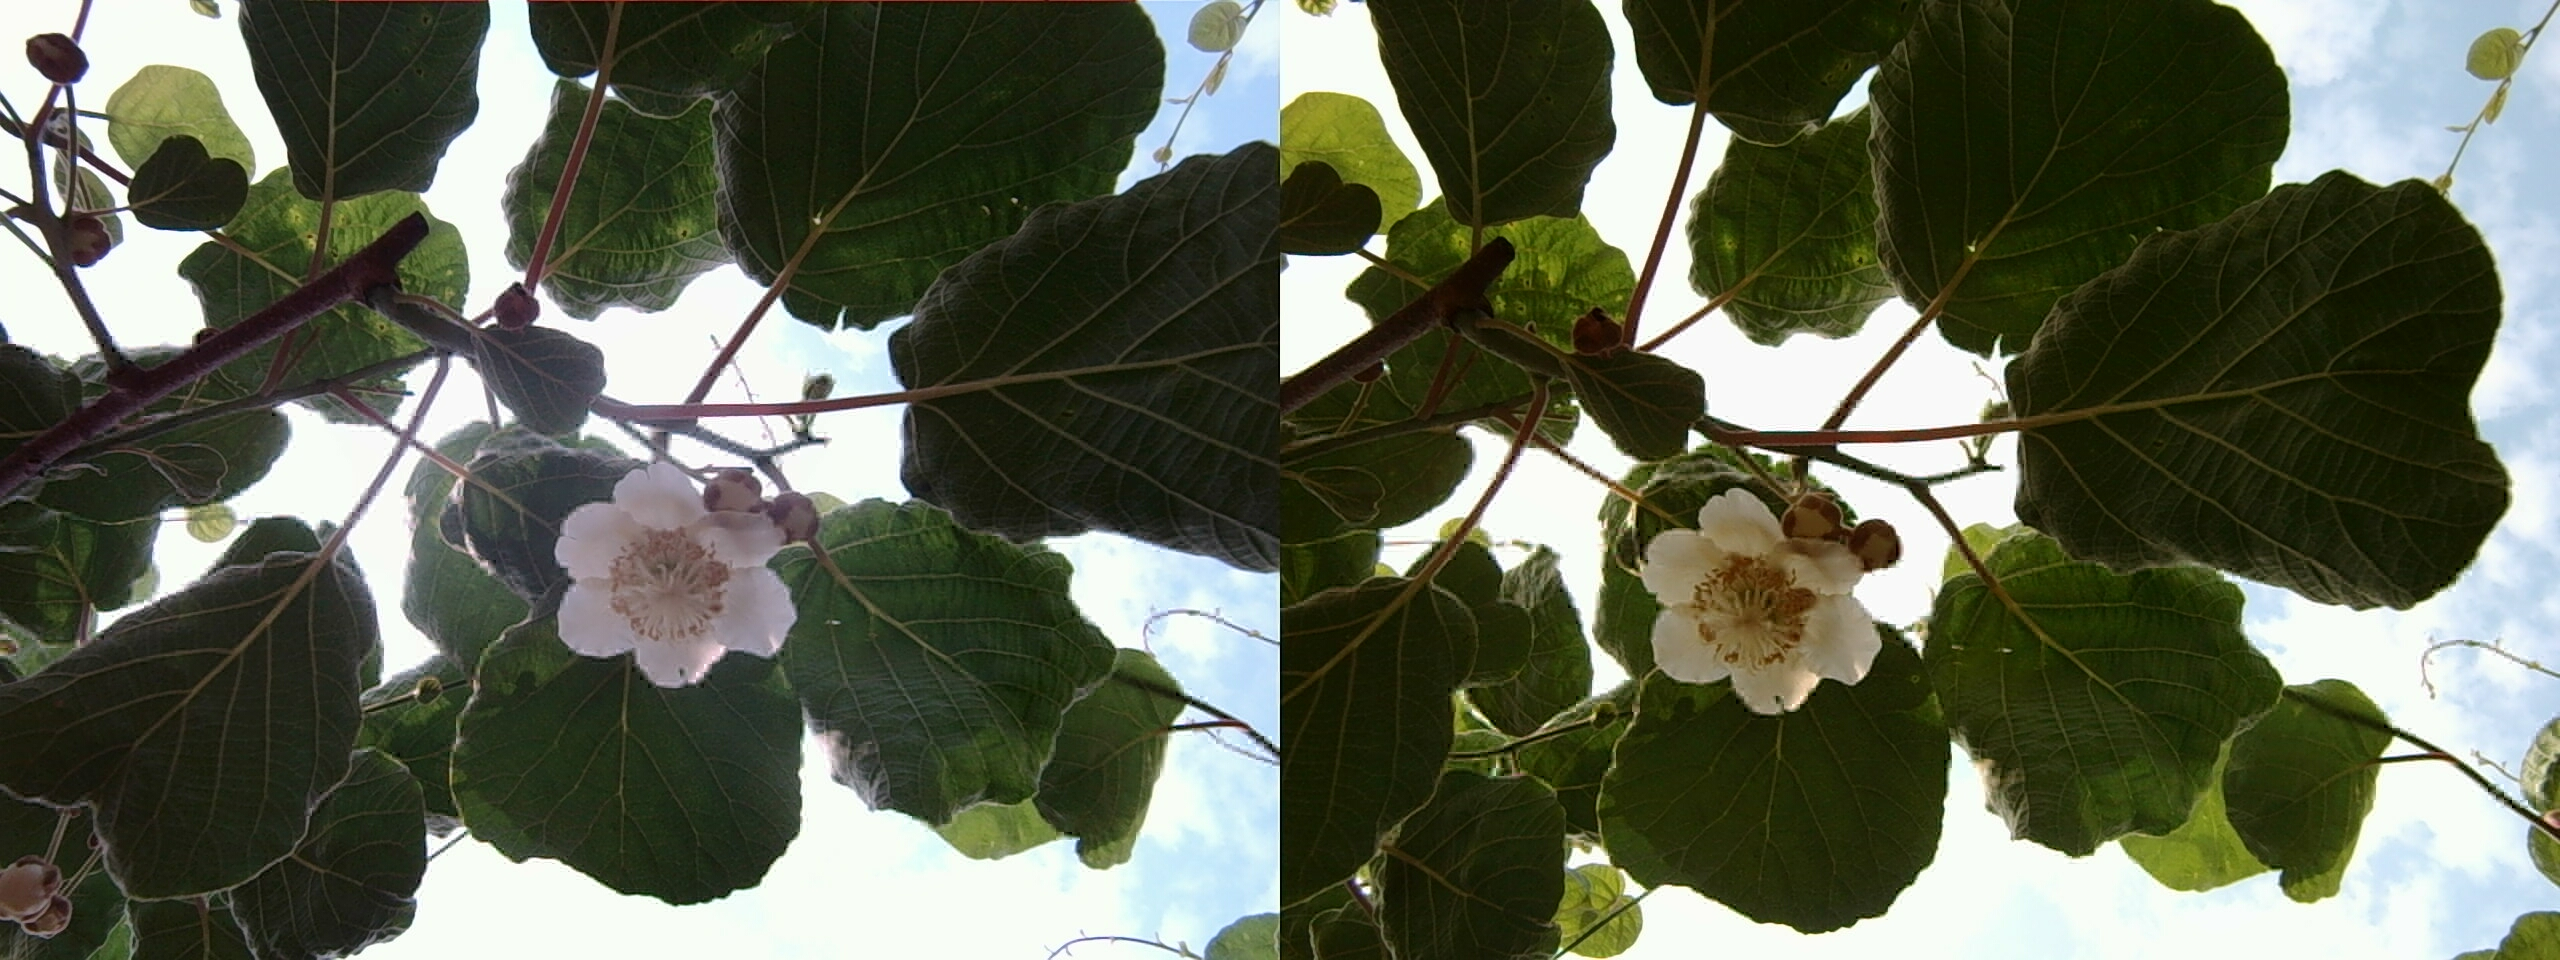flower: (536, 459, 807, 689), (1626, 483, 1887, 712)
